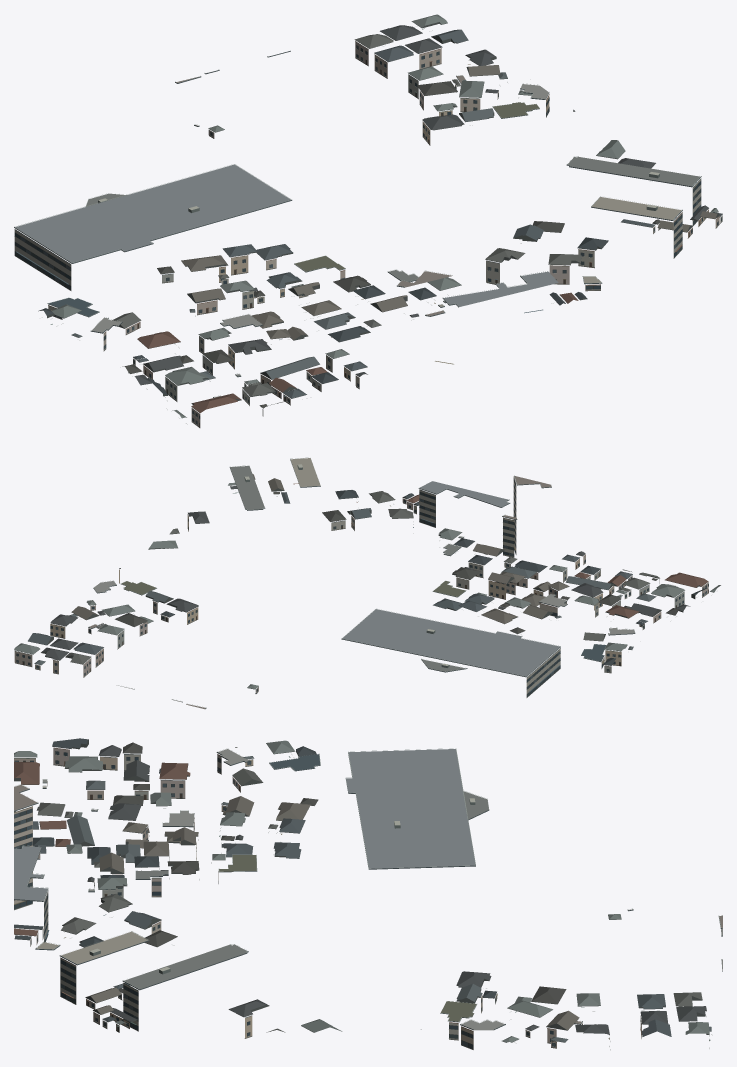
3 views of the same model, one above another, from view 1: azimuth 30°, elevation 25°; view 2: azimuth 150°, elevation 25°; view 3: azimuth 270°, elevation 25° (orthographic). The views are drawn at different scales.
Visible parts, largest first — view 1: r7-c5; view 2: r7-c5; view 3: r7-c5.
Part boxes in pixels (x1,y1,x2,y2): r7-c5: (14, 14, 722, 427); r7-c5: (14, 457, 720, 709); r7-c5: (14, 738, 722, 1050).
Size of the model in its own units: 250 by 38.73 by 250.
